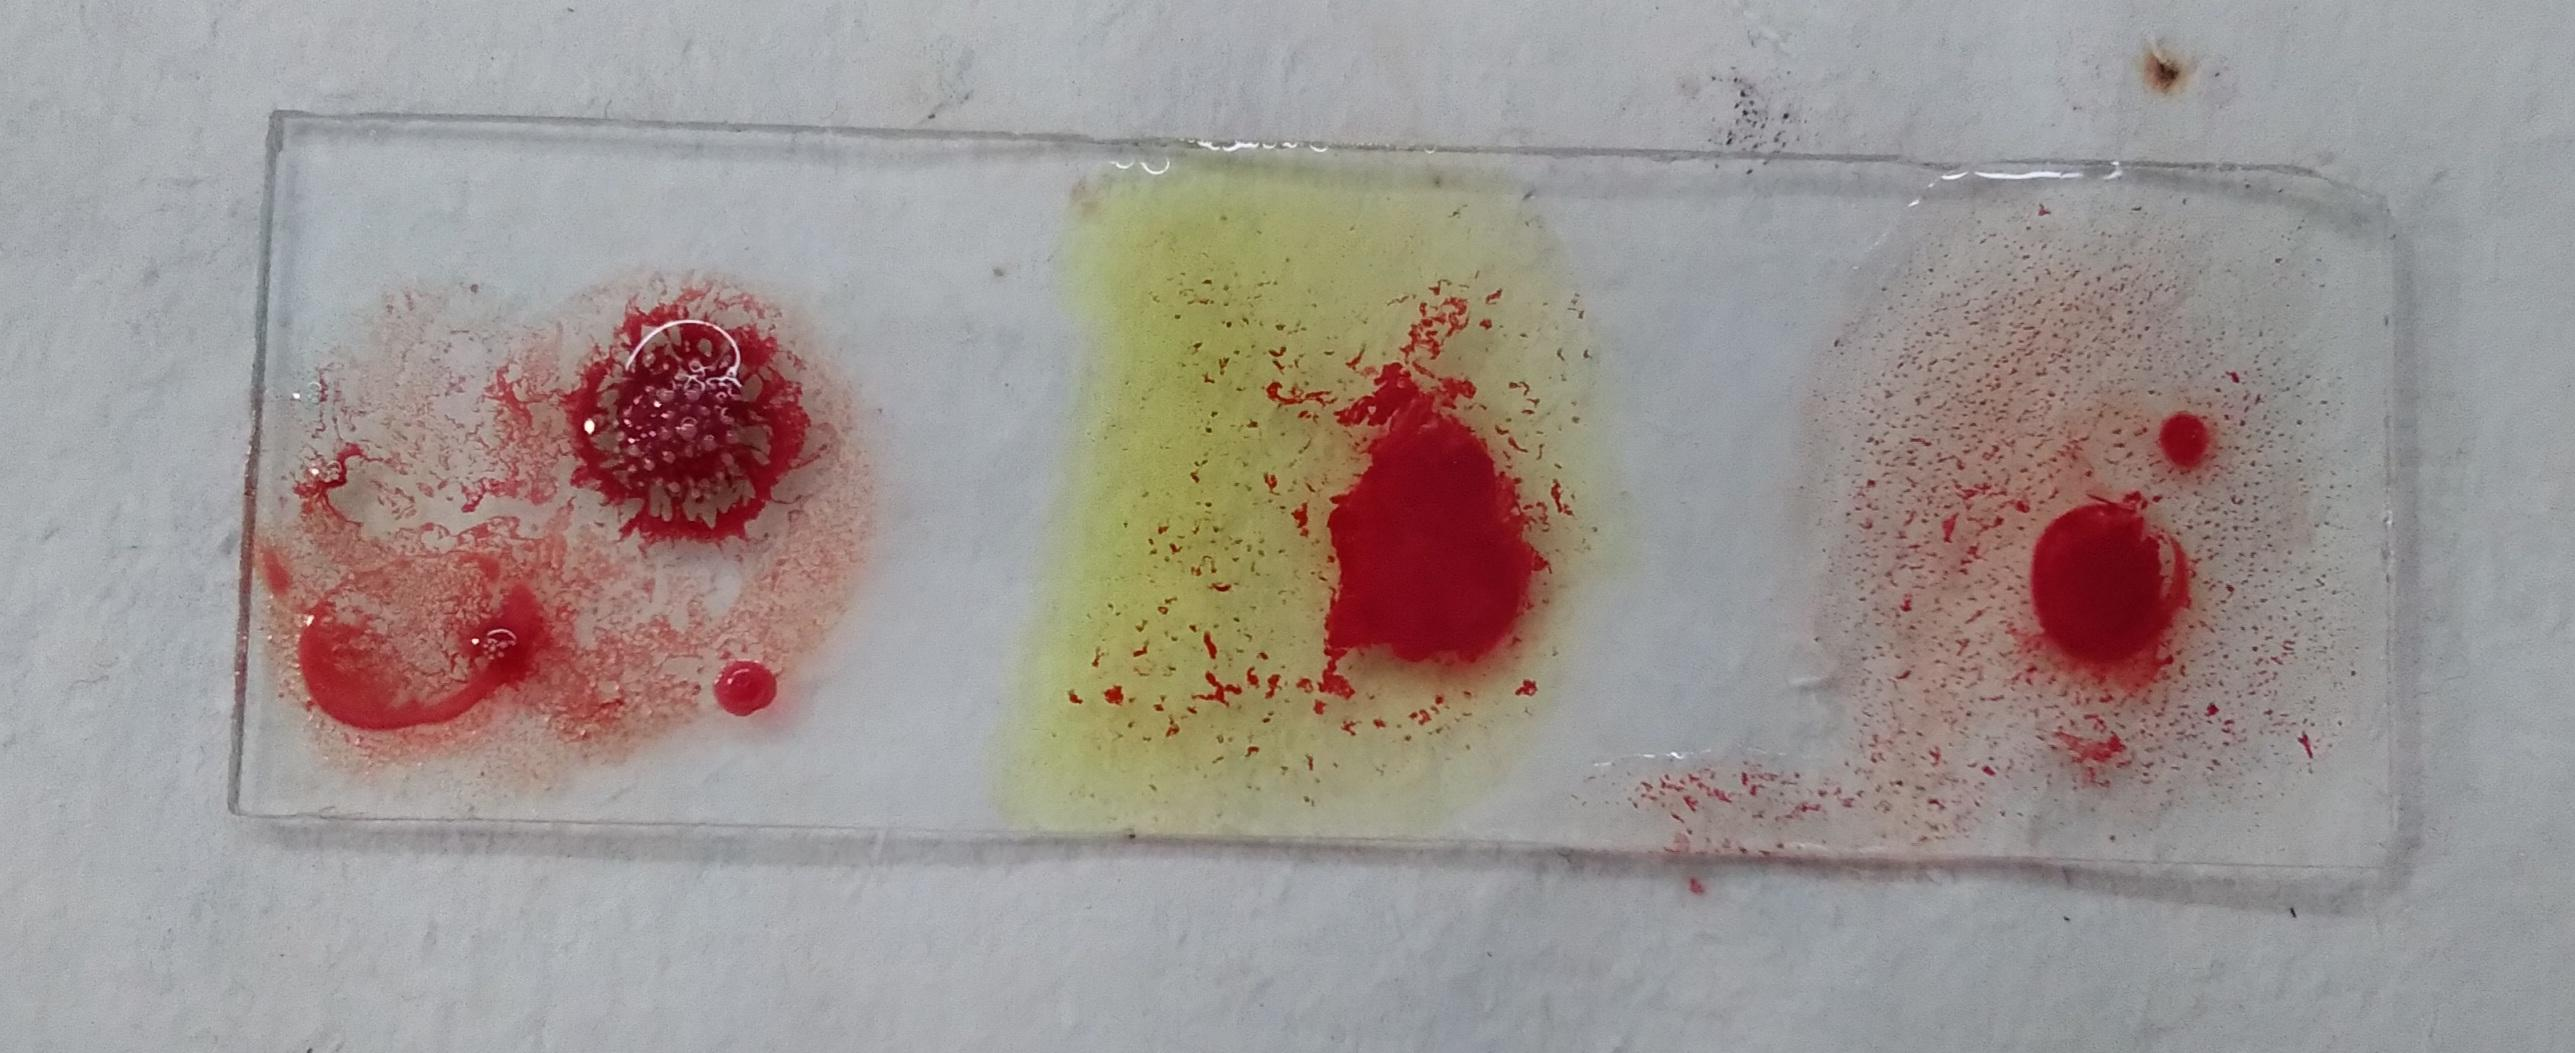A: (307, 263, 882, 762)
B: (1100, 169, 1593, 818)
D: (1843, 200, 2325, 844)
